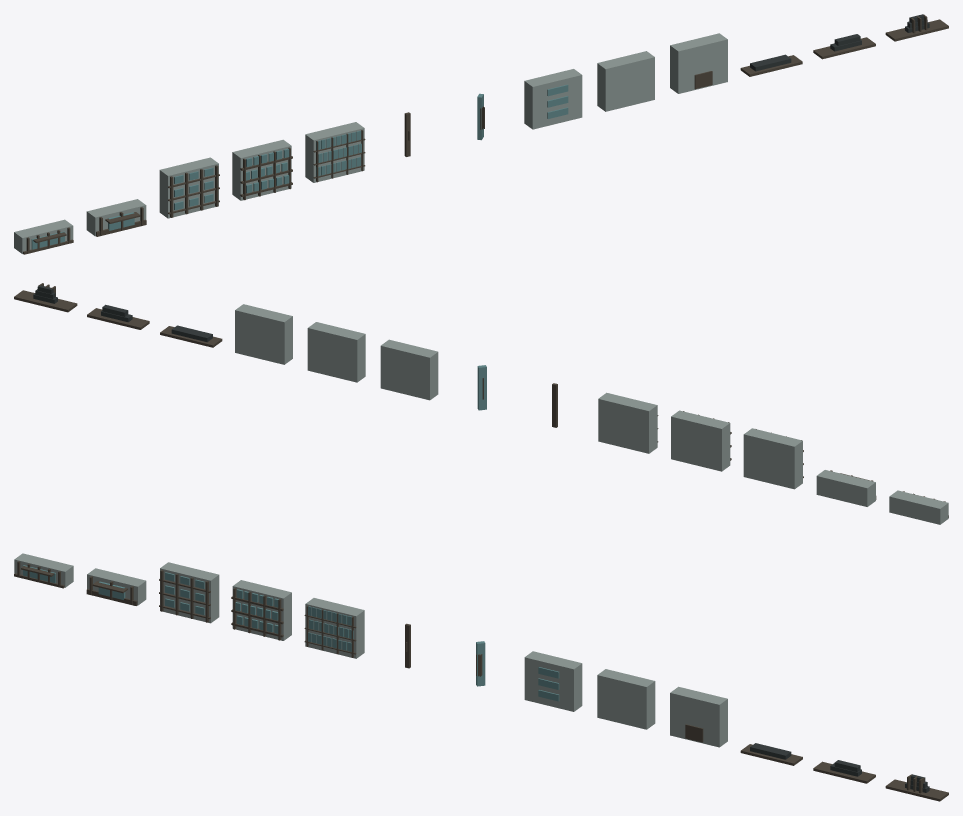
Rendered from riverfront-terrace.glb.
3 renders of one model, top to bottom at view 1: azimuth 30°, elevation 25°; view 2: azimuth 150°, elevation 25°; view 3: azimuth 330°, elevation 25°, orthographic.
Parts seen in each view (by area): view 1: middle-wall (×3), party-wall, rear-wall, exposed-wall, base-shell (×2), cornice; view 2: middle-wall (×3), base-shell (×2), party-wall, exposed-wall, rear-wall, cornice; view 3: middle-wall (×3), party-wall, rear-wall, exposed-wall, base-shell (×2).
Boxes of the visible parts, x1,y1,x2,y2 form: middle-wall (×3): [159, 122, 364, 218]; party-wall: [597, 51, 654, 111]; rear-wall: [670, 33, 727, 93]; exposed-wall: [524, 69, 582, 129]; base-shell (×2): [14, 199, 146, 253]; cornice: [885, 19, 948, 41]; middle-wall (×3): [598, 392, 802, 489]; base-shell (×2): [816, 470, 948, 524]; party-wall: [307, 322, 365, 382]; exposed-wall: [380, 339, 438, 400]; rear-wall: [235, 304, 292, 364]; cornice: [14, 290, 77, 312]; middle-wall (×3): [160, 562, 364, 658]; party-wall: [597, 669, 655, 729]; rear-wall: [670, 686, 727, 747]; exposed-wall: [524, 651, 582, 711]; base-shell (×2): [14, 553, 146, 605].
Size of the model in its own units: 63.61 by 2.8 by 1.6.
